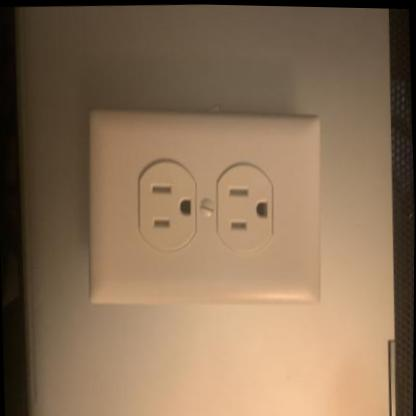OUTLET: (85, 100, 326, 314)
